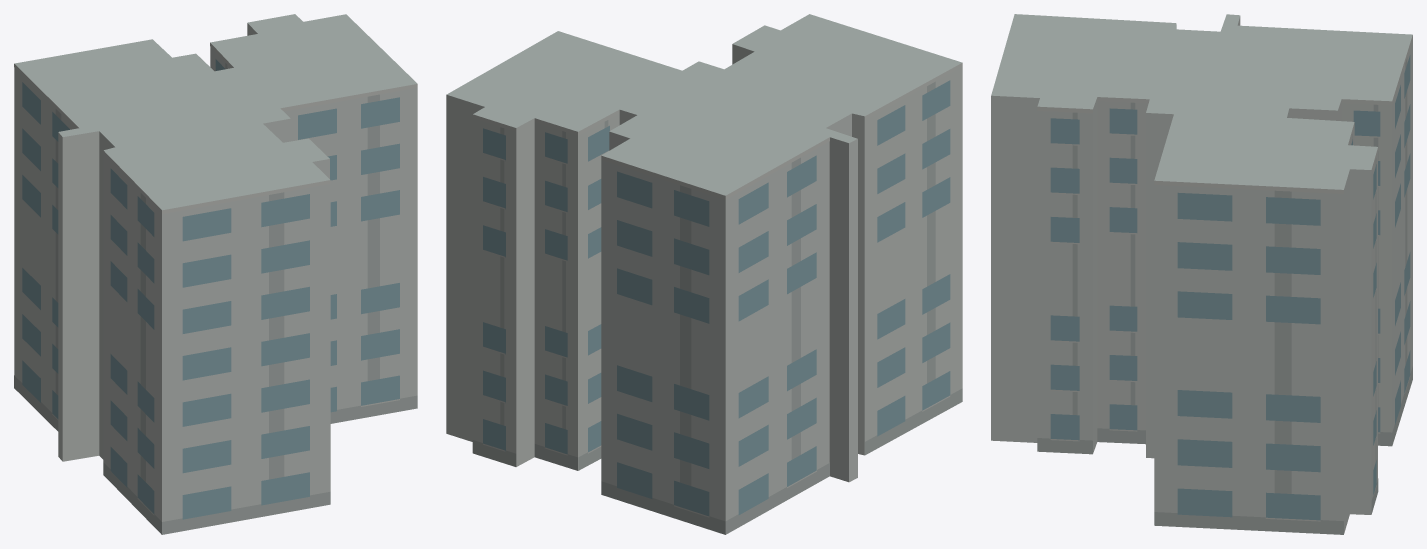
Rendered from survey-upis-32868716.glb.
3 renders of one model, left to right at view 1: azimuth 30°, elevation 25°; view 2: azimuth 150°, elevation 25°; view 3: azimuth 270°, elevation 25°, orthographic. The views are drawn at different scales.
Parts seen in each view (by area): view 1: survey-upis-32868716.tmp; view 2: survey-upis-32868716.tmp; view 3: survey-upis-32868716.tmp.
Part boxes in pixels (bbox=[...]): survey-upis-32868716.tmp: bbox=[14, 14, 417, 534]; survey-upis-32868716.tmp: bbox=[446, 14, 962, 534]; survey-upis-32868716.tmp: bbox=[991, 14, 1412, 534].
Bounding box in the file's own units: 21.99 × 20.1 × 22.28.
